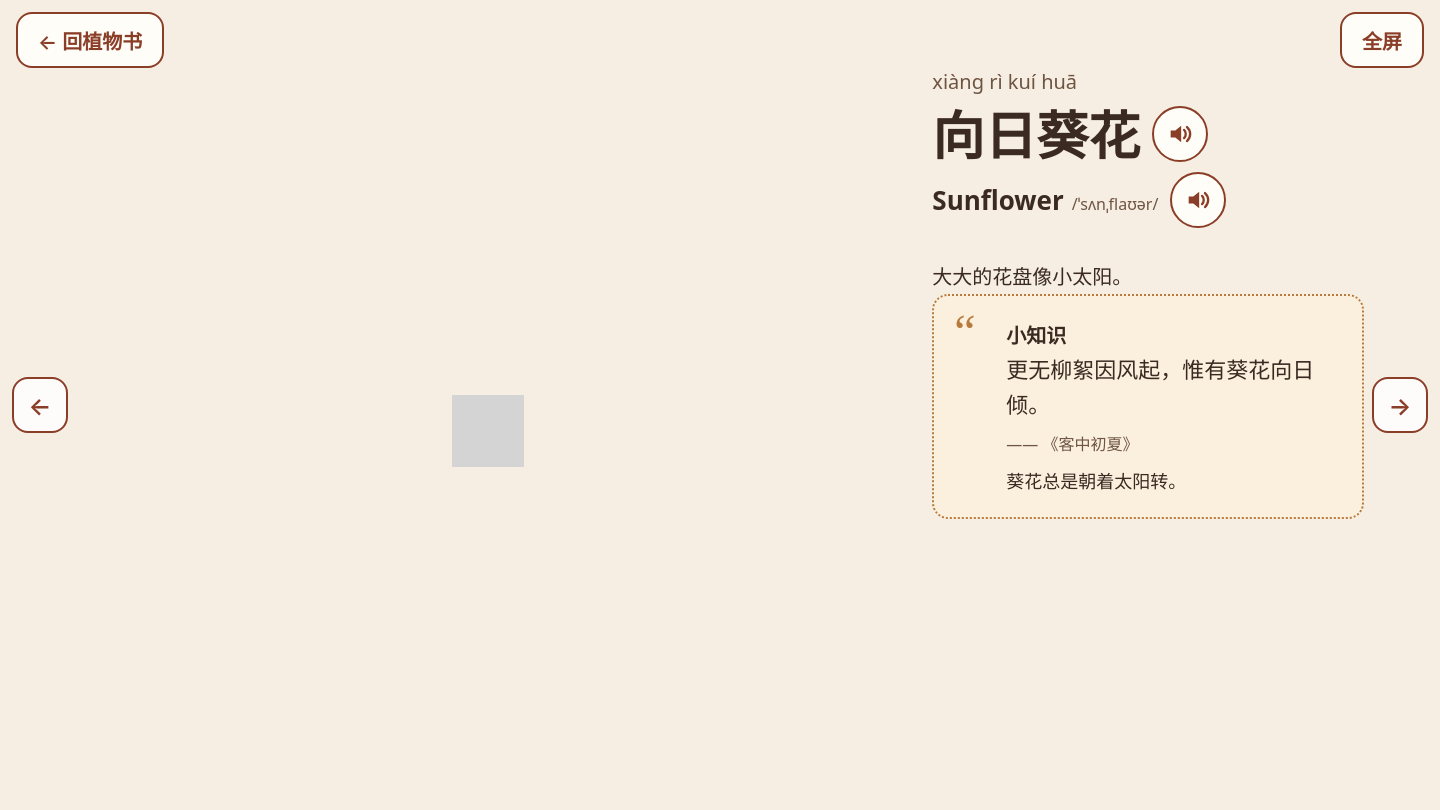
Scenario: PlantDetailPage 连续浏览（Sprint 4：TC-28 ~ TC-34） › TC-28 点「下一株」切到相邻植物并更新内容
Click the button named "下一株". click: click(1400, 405)
box: [1372, 377, 1428, 433]
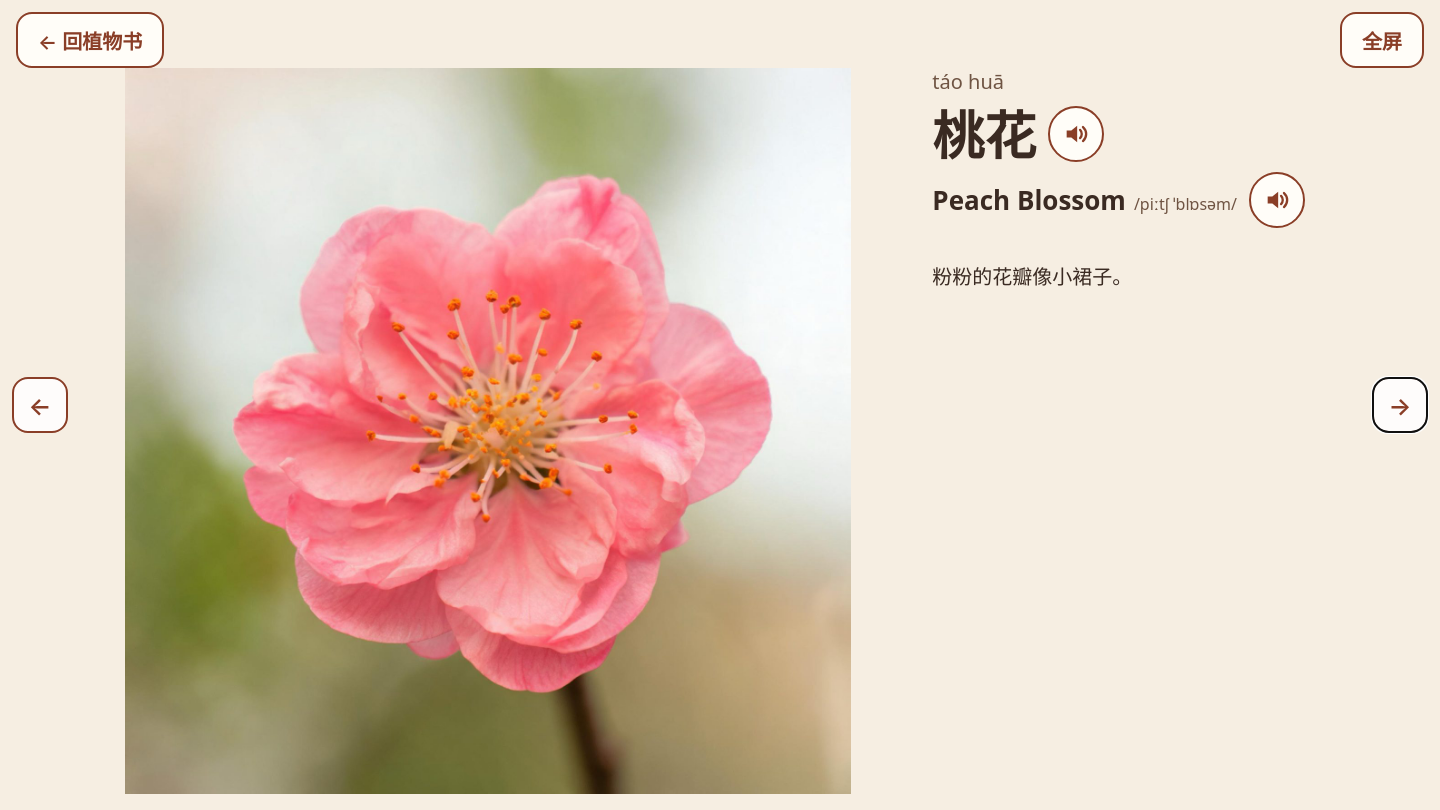
Now the heading "桃花" is shown, box [932, 95, 1036, 170]
